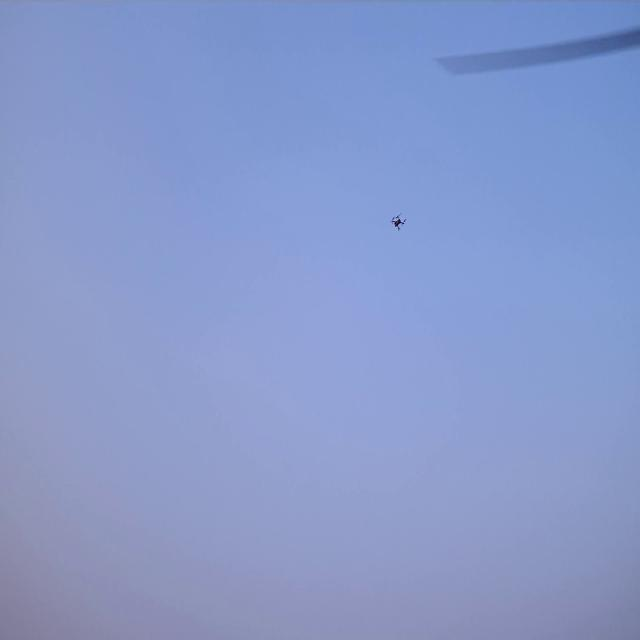UAV: (392, 216, 405, 228)
